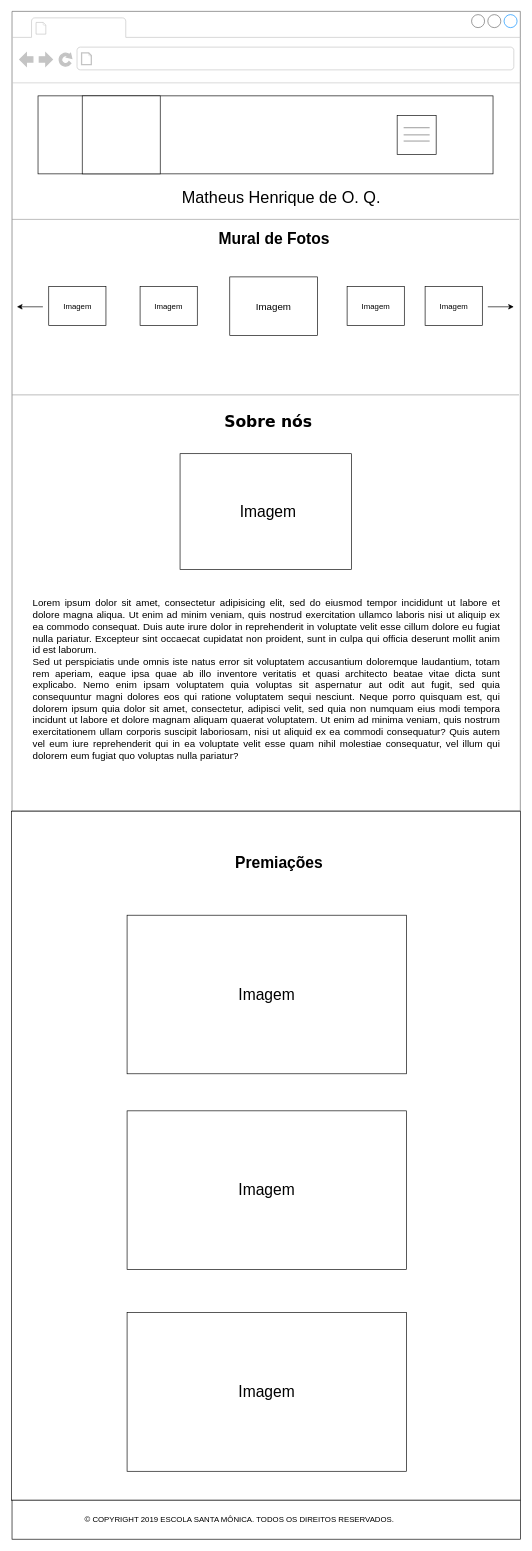
The diagram is 532 pixels wide and 1551 high, and some of its shapes have lost their labels. The centre of each missing label's shape, as x and y in pixels:
https://www.escolasantamonica.com: point 177,58
Logo: point 121,134
Page 1: point 86,27
